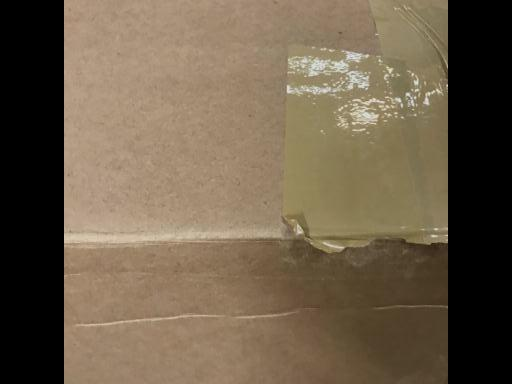cardboard: (73, 5, 445, 384)
